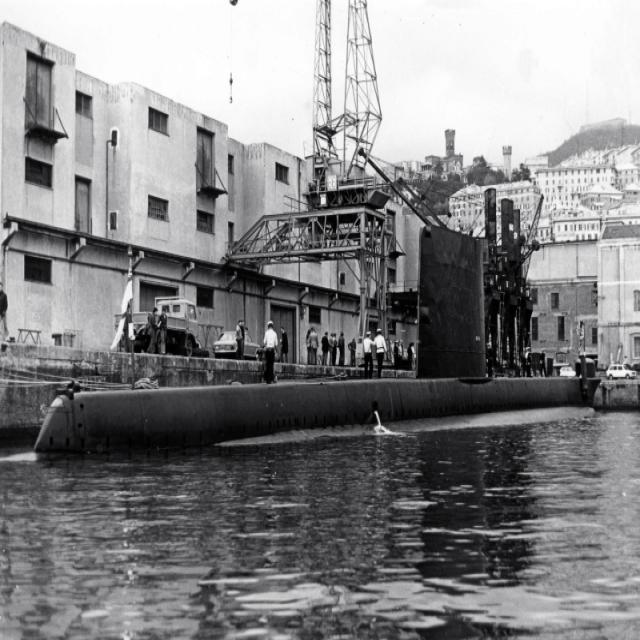submarine: (33, 220, 600, 453)
